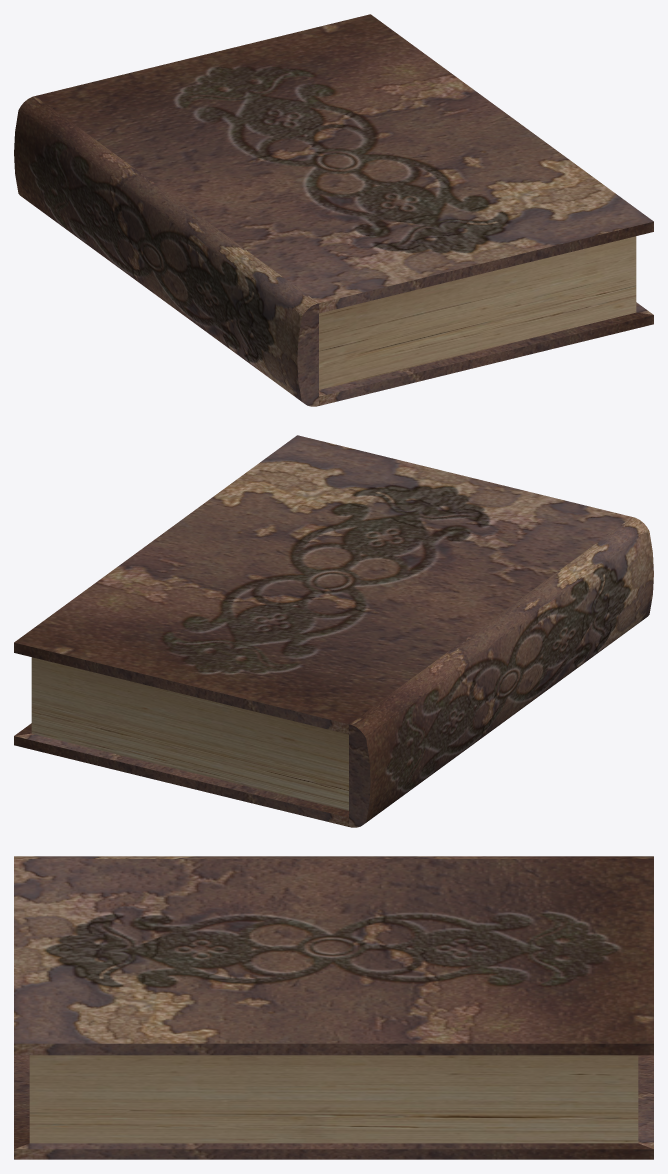
Rendered from book-04.fbx.
The picture shows the model from 3 angles, top to bottom: view 1: azimuth 30°, elevation 25°; view 2: azimuth 150°, elevation 25°; view 3: azimuth 270°, elevation 25°; orthographic projection. The views are drawn at different scales.
Visible parts, largest first — view 1: Cube.003; view 2: Cube.003; view 3: Cube.003.
Boxes of the visible parts, box(x1,y1,x2,y2) form: Cube.003: box(14, 14, 653, 406); Cube.003: box(14, 435, 653, 827); Cube.003: box(14, 856, 653, 1159).
Size of the model in its own units: 0.3053 by 0.084 by 0.42.
